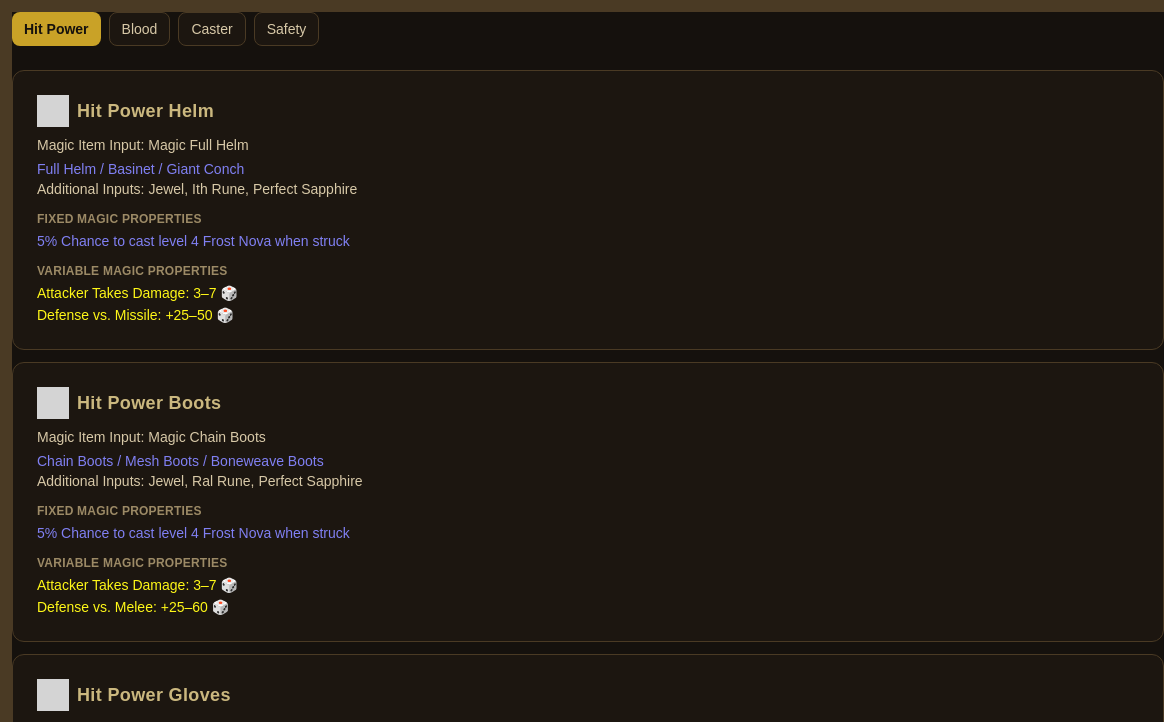
Test: CraftedItemList › switches the visible family when a different tab is clicked, showing only that family
Click the button "Blood".
click(140, 29)  # box [109,12,170,46]
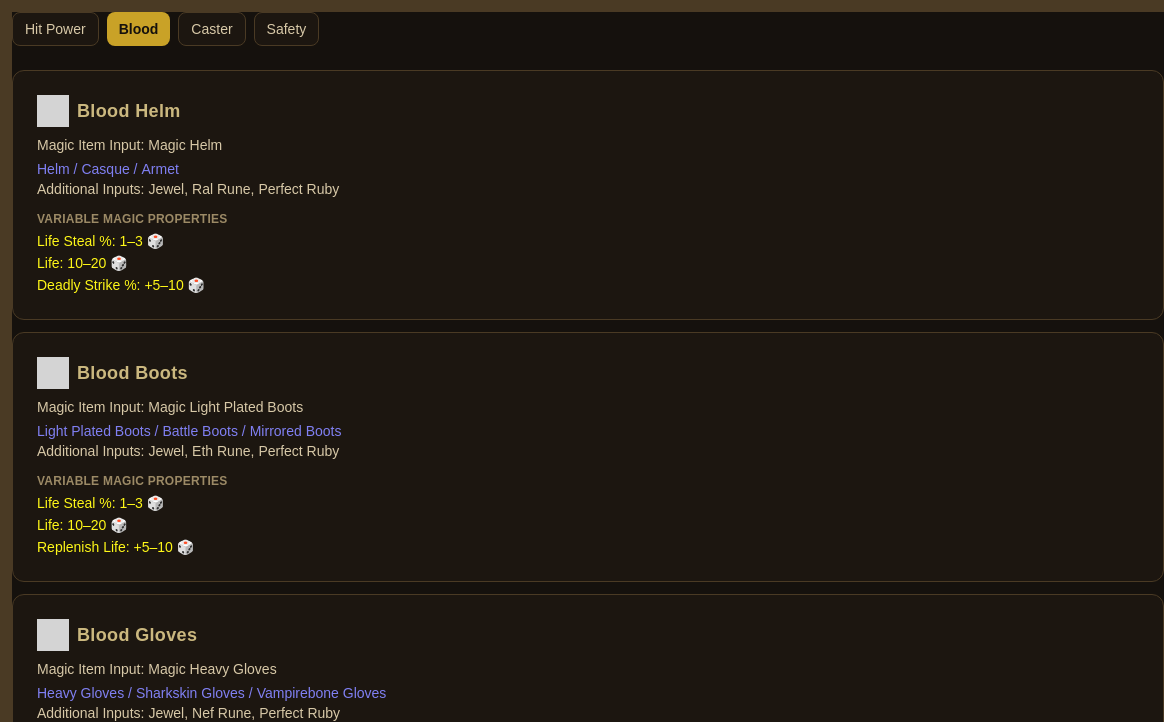
Expected: the heading "Blood Helm" is shown, [77,97,181,125]
Expected: the heading "Hit Power Helm" is gone
